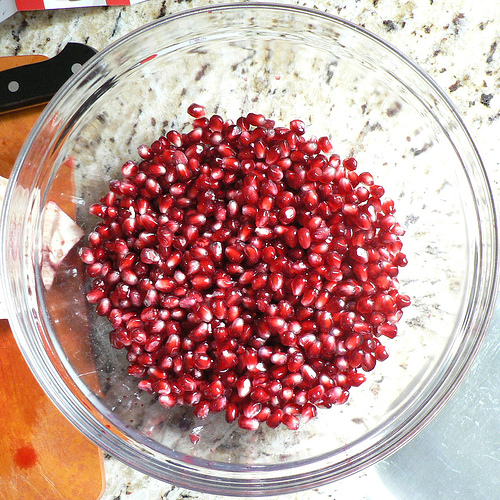pomogranate: (77, 103, 411, 432)
